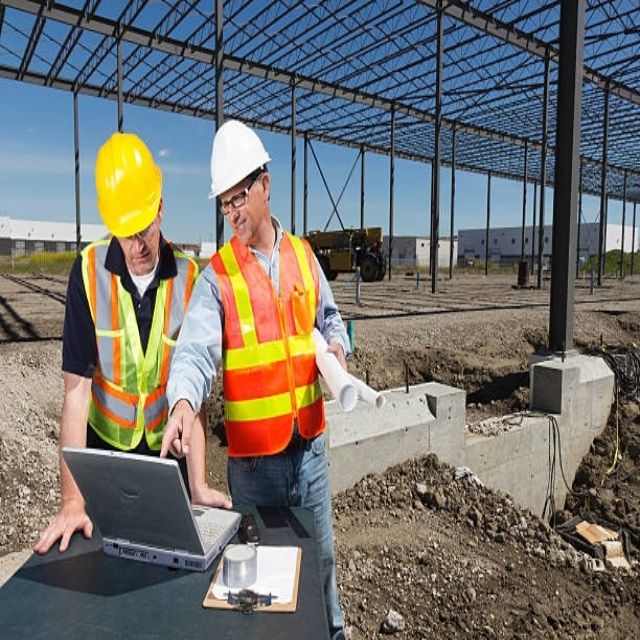Gafas: (217, 175, 260, 216), (132, 212, 161, 243)
Sin_guantes: (33, 506, 94, 556), (157, 394, 198, 456), (190, 472, 234, 510), (325, 340, 350, 373)
Sin_mascara: (128, 248, 154, 273), (227, 216, 253, 238)
